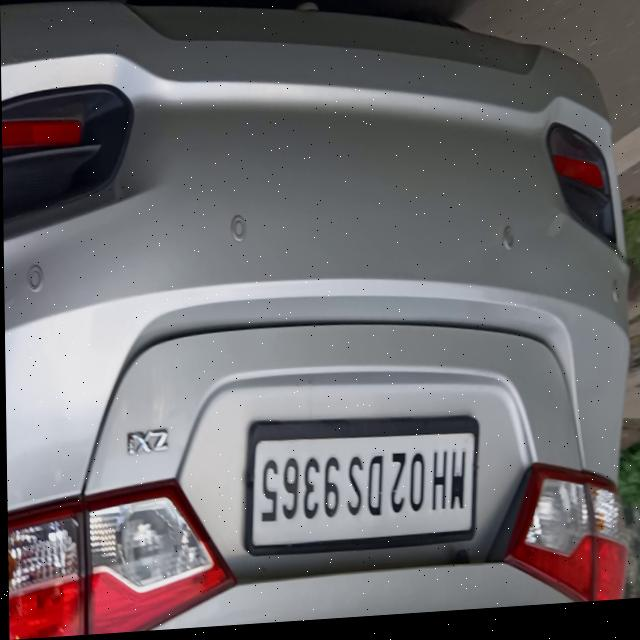plate: (239, 415, 478, 564)
